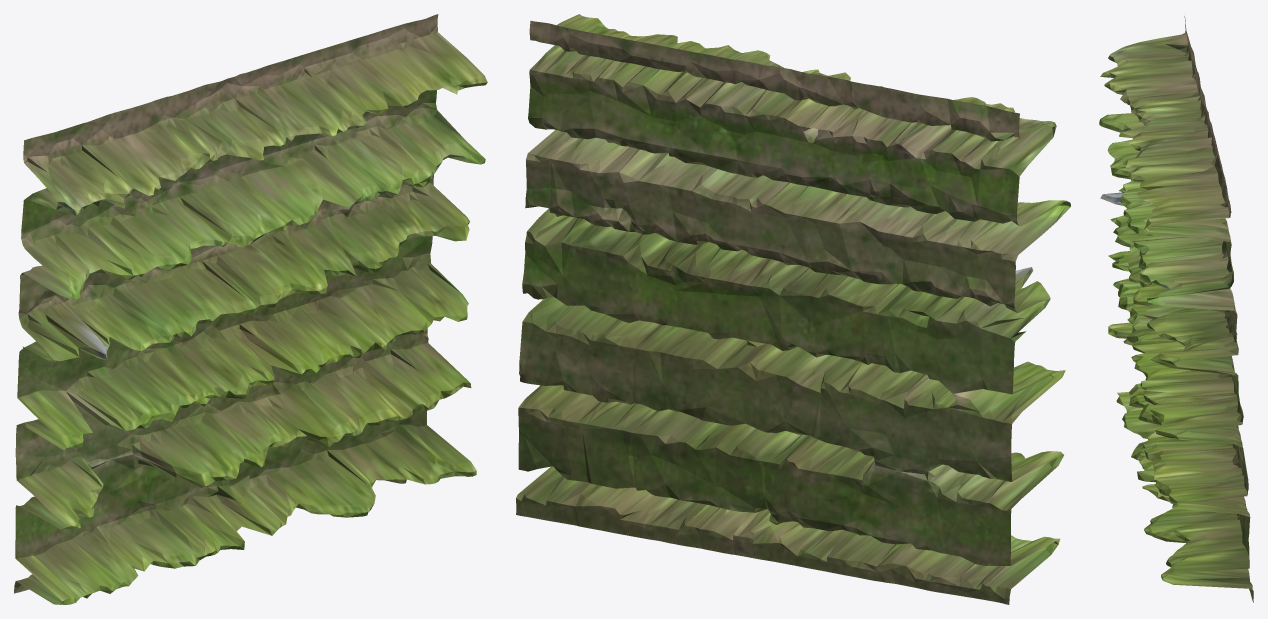
Rendered from map_60_40.obj.
The picture shows the model from 3 angles, left to right: view 1: azimuth 30°, elevation 25°; view 2: azimuth 150°, elevation 25°; view 3: azimuth 270°, elevation 25°; orthographic projection. The views are drawn at different scales.
Visible parts, largest first — view 1: grp1; view 2: grp1; view 3: grp1.
Boxes of the visible parts, left/top/right/bottom form: grp1: left=14, top=14, right=487, bottom=604; grp1: left=516, top=14, right=1070, bottom=604; grp1: left=1099, top=16, right=1253, bottom=602.
Size of the model in its own units: 10 by 10 by 3.48.
1 material, 1 textured.
